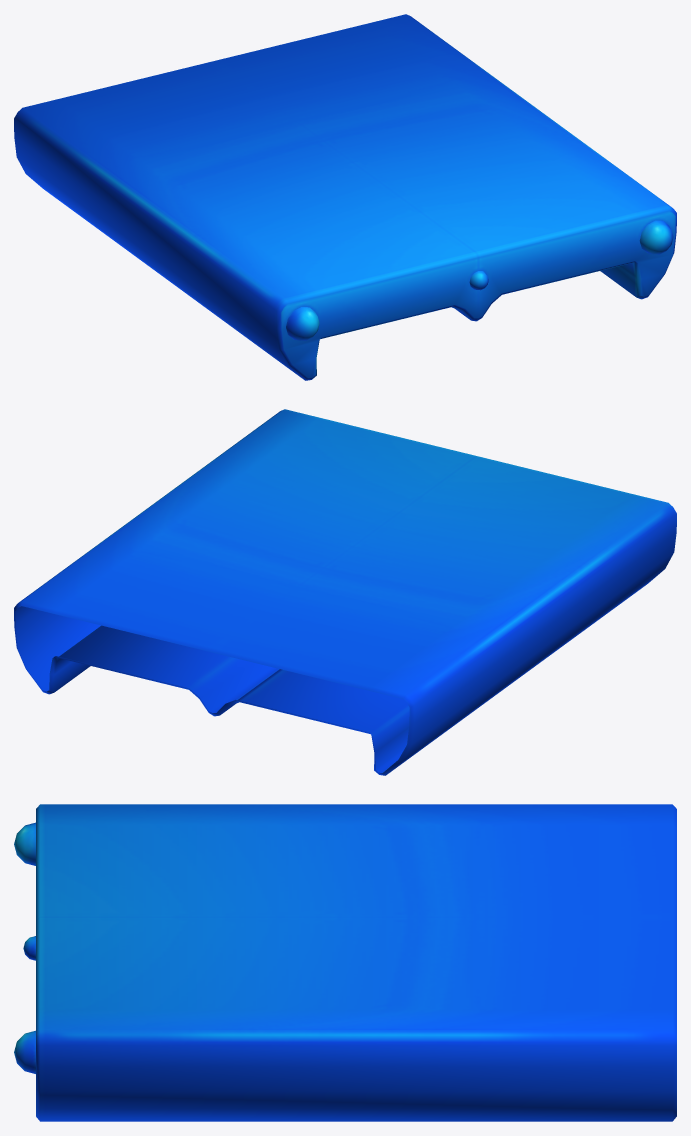
The model's file is Model_Handle01.FBX.
The picture shows the model from 3 angles, top to bottom: view 1: azimuth 30°, elevation 25°; view 2: azimuth 150°, elevation 25°; view 3: azimuth 270°, elevation 25°; orthographic projection. The views are drawn at different scales.
Visible parts, largest first — view 1: Object002; view 2: Object002; view 3: Object002.
Boxes of the visible parts, x1,y1,x2,y2 form: Object002: (14,14,676,380); Object002: (14,409,676,775); Object002: (14,804,676,1121).
Bounding box in the file's own units: 128 × 26.49 × 152.
